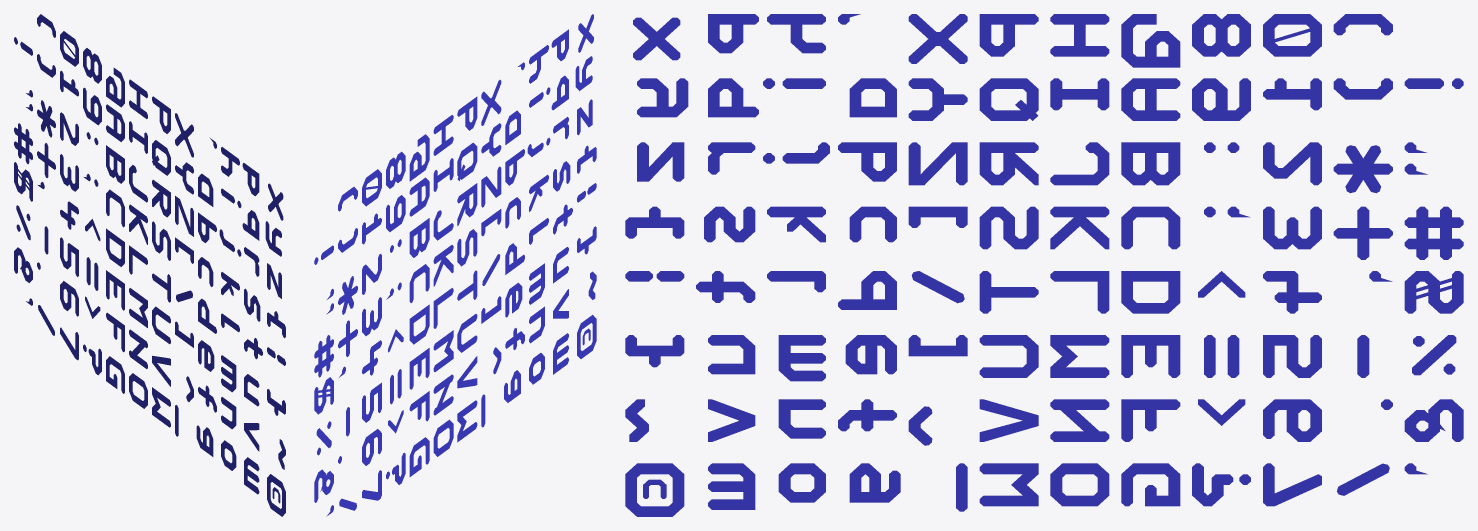
Rendered from font.obj.
3 views of the same model, side by side, from view 1: azimuth 30°, elevation 25°; view 2: azimuth 150°, elevation 25°; view 3: azimuth 270°, elevation 25° (orthographic). The views are drawn at different scales.
Parts seen in each view (by area): view 1: x7f, x23, x40, x42, x38, x52, x24, x39, x30, x6d, x36, x41 (+21 smaller); view 2: x7f, x40, x42, x23, x52, x38, x45, x47, x44, x24, x51, x41 (+23 smaller); view 3: x7f, x23, x40, x42, x38, x52, x24, x47, x51, x30, x57, x44 (+59 smaller).
Part boxes in pixels (box(x1,y1,x2,y2)): x7f: box(267, 474, 285, 516); x23: box(14, 123, 32, 163); x40: box(106, 67, 124, 107); x42: box(106, 145, 124, 183); x38: box(83, 48, 101, 83); x52: box(152, 179, 170, 217); x24: box(14, 162, 32, 201); x39: box(83, 87, 101, 125); x30: box(60, 31, 78, 66); x6d: box(221, 355, 236, 392); x36: box(60, 281, 78, 316); x41: box(106, 104, 124, 141); x7f: box(577, 315, 596, 358); x40: box(409, 134, 429, 181); x42: box(409, 218, 429, 257); x23: box(314, 335, 333, 377); x52: box(457, 183, 477, 225); x38: box(386, 151, 405, 188); x45: box(409, 348, 429, 389); x47: box(409, 437, 429, 476); x44: box(409, 304, 429, 344); x24: box(314, 377, 333, 414); x51: box(457, 142, 477, 180); x41: box(409, 177, 429, 216); x7f: box(625, 463, 684, 516); x23: box(1404, 206, 1463, 259); x40: box(1121, 14, 1180, 67); x42: box(1121, 142, 1180, 185); x38: box(1192, 14, 1250, 56); x52: box(979, 142, 1038, 185); x24: box(1404, 271, 1463, 313); x47: box(1121, 463, 1180, 506); x51: box(979, 78, 1038, 120); x30: box(1263, 14, 1321, 56); x57: box(979, 463, 1038, 506); x44: box(1121, 271, 1180, 313).
Bounding box in the file's own units: 6.66e-16 × 47 × 71.
